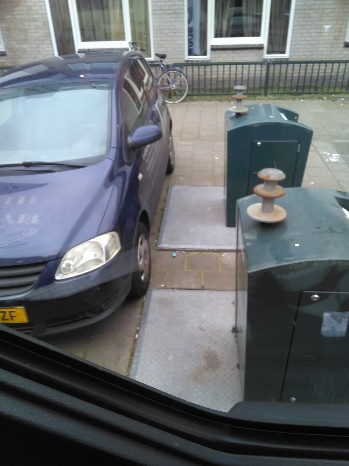Container: (218, 183, 349, 374), (231, 92, 317, 193)
Voertuig: (2, 57, 167, 326)
